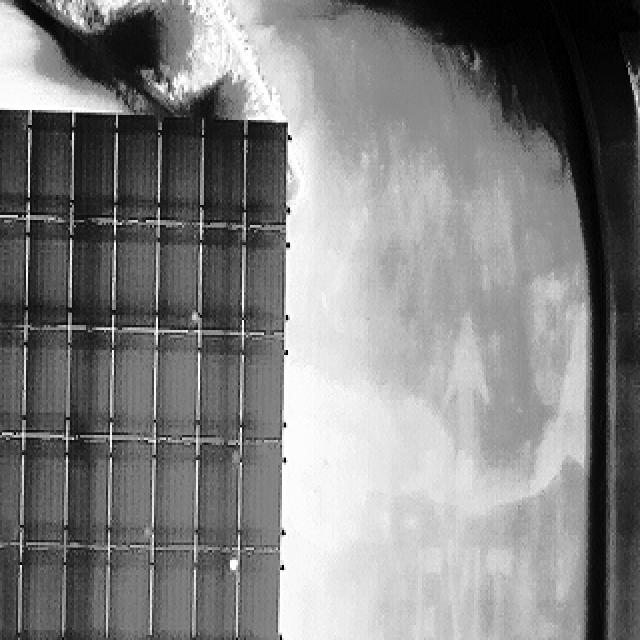Hotspots: (221, 552, 238, 575), (138, 522, 154, 541), (187, 309, 200, 328), (228, 449, 240, 467)
PV-modules: (70, 116, 118, 225), (66, 328, 111, 439), (64, 438, 109, 549), (26, 331, 72, 439), (195, 442, 240, 552), (28, 115, 74, 222), (150, 441, 196, 548), (198, 331, 243, 440), (27, 220, 72, 329), (199, 227, 244, 335), (26, 438, 70, 548), (240, 444, 284, 554), (109, 441, 153, 550), (184, 552, 238, 640), (158, 225, 202, 332), (241, 337, 285, 444), (113, 224, 157, 331), (112, 333, 155, 442), (116, 120, 160, 226), (245, 227, 288, 335), (68, 222, 111, 330), (247, 123, 290, 230), (160, 331, 202, 440), (200, 119, 242, 227), (160, 122, 203, 226), (22, 546, 68, 638), (106, 551, 152, 640), (62, 550, 107, 640), (156, 552, 200, 640), (238, 555, 283, 640), (0, 218, 26, 328), (0, 107, 26, 215), (0, 325, 24, 435), (0, 437, 22, 545), (0, 548, 18, 638)
